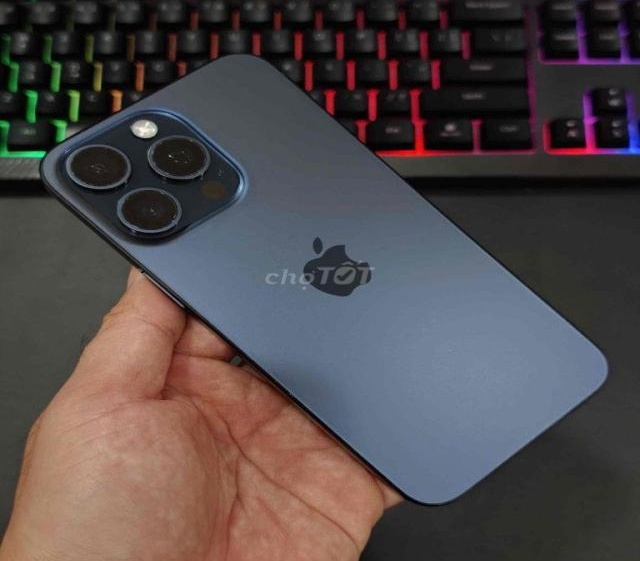scratch: (60, 127, 212, 234)
